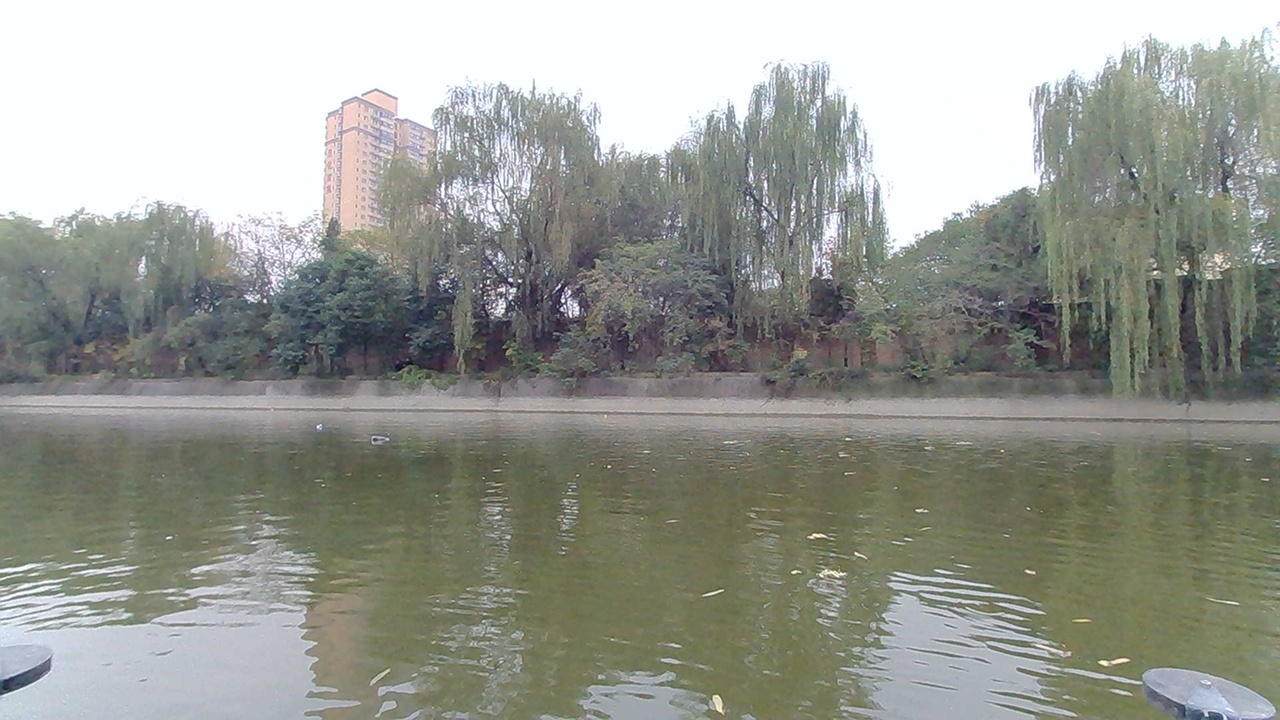bottle: (353, 426, 398, 458), (311, 416, 344, 439)
